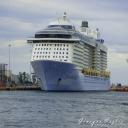cruises: (27, 12, 113, 95)
